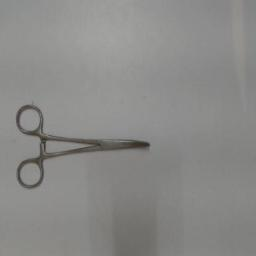Crile Artery Forceps: (14, 98, 158, 190)
